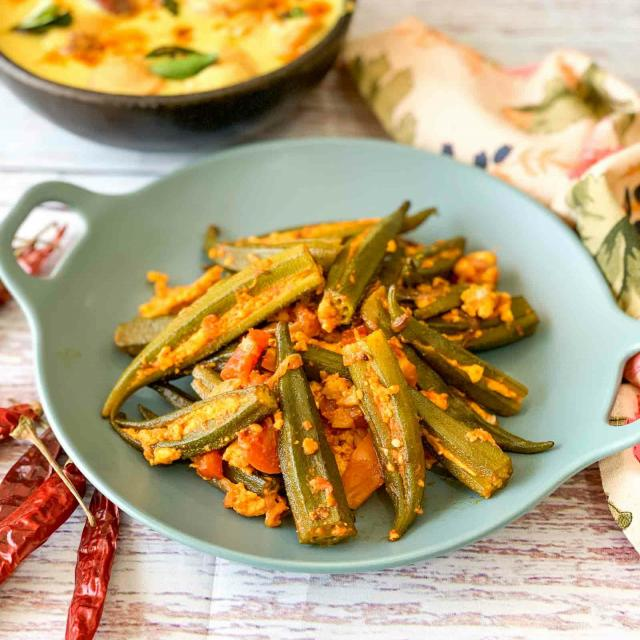BhindiMasala: (101, 200, 555, 546)
